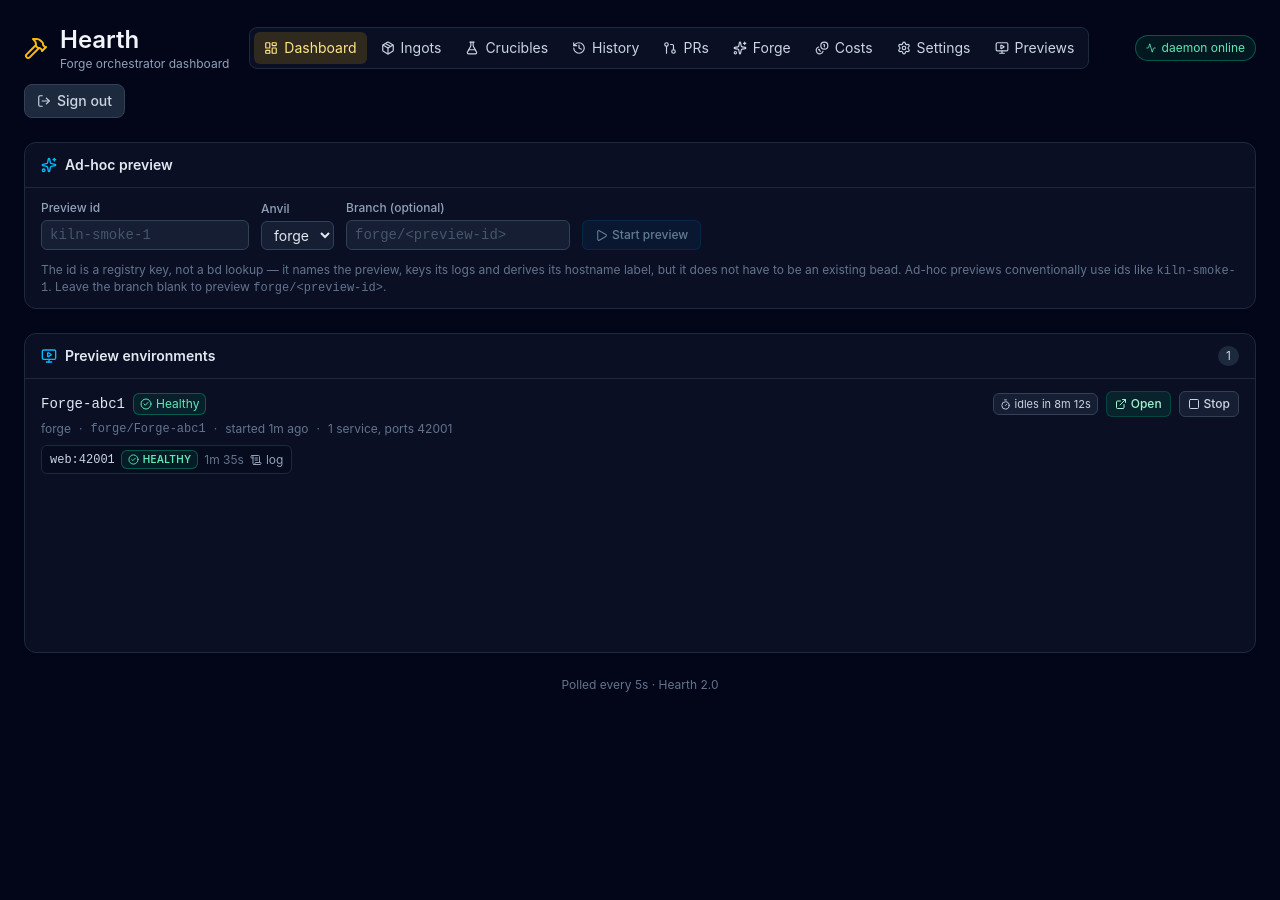
PreviewsPage ad-hoc preview form › reports the daemon refusal and keeps what was typed
The width and height of the screenshot is (1280, 900).
Type "kiln-smoke-3" into the field with test id "adhoc-preview-id" at {"x": 145, "y": 235}, box [41,220,249,250]
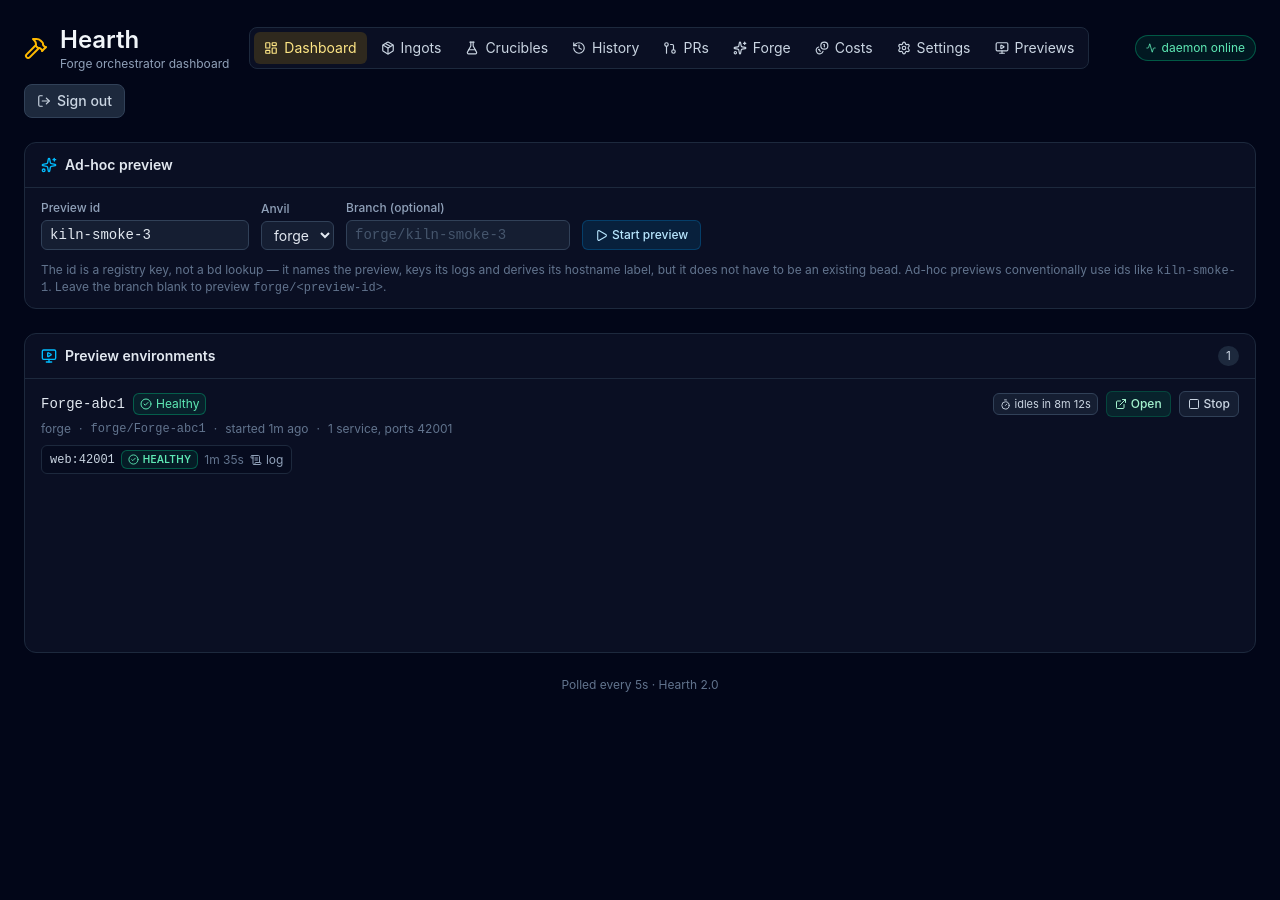
Type "main" into the field with test id "adhoc-preview-branch" at {"x": 458, "y": 235}, box [346,220,570,250]
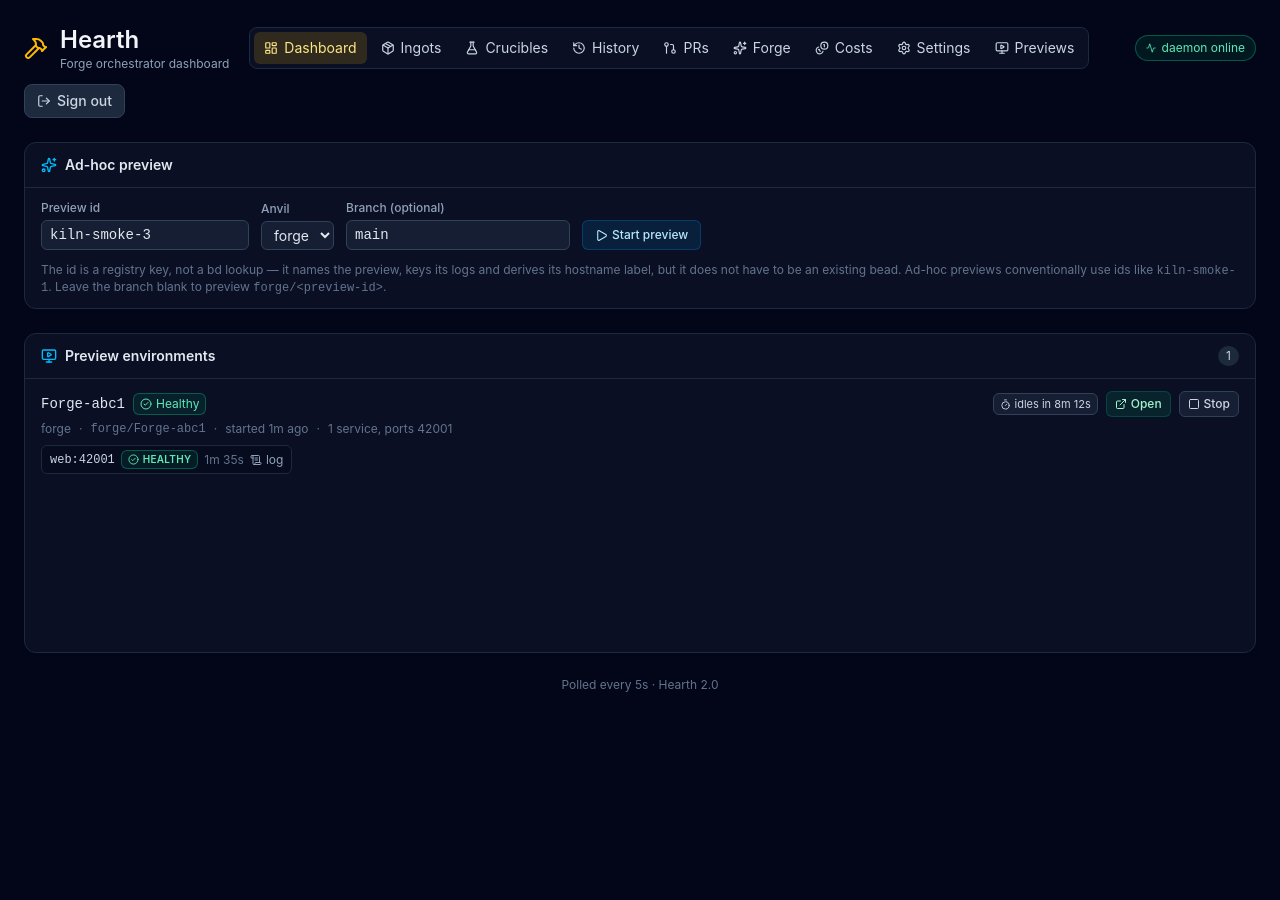
Click the button with test id "adhoc-preview-submit" at {"x": 642, "y": 235}, box [582,220,701,250]
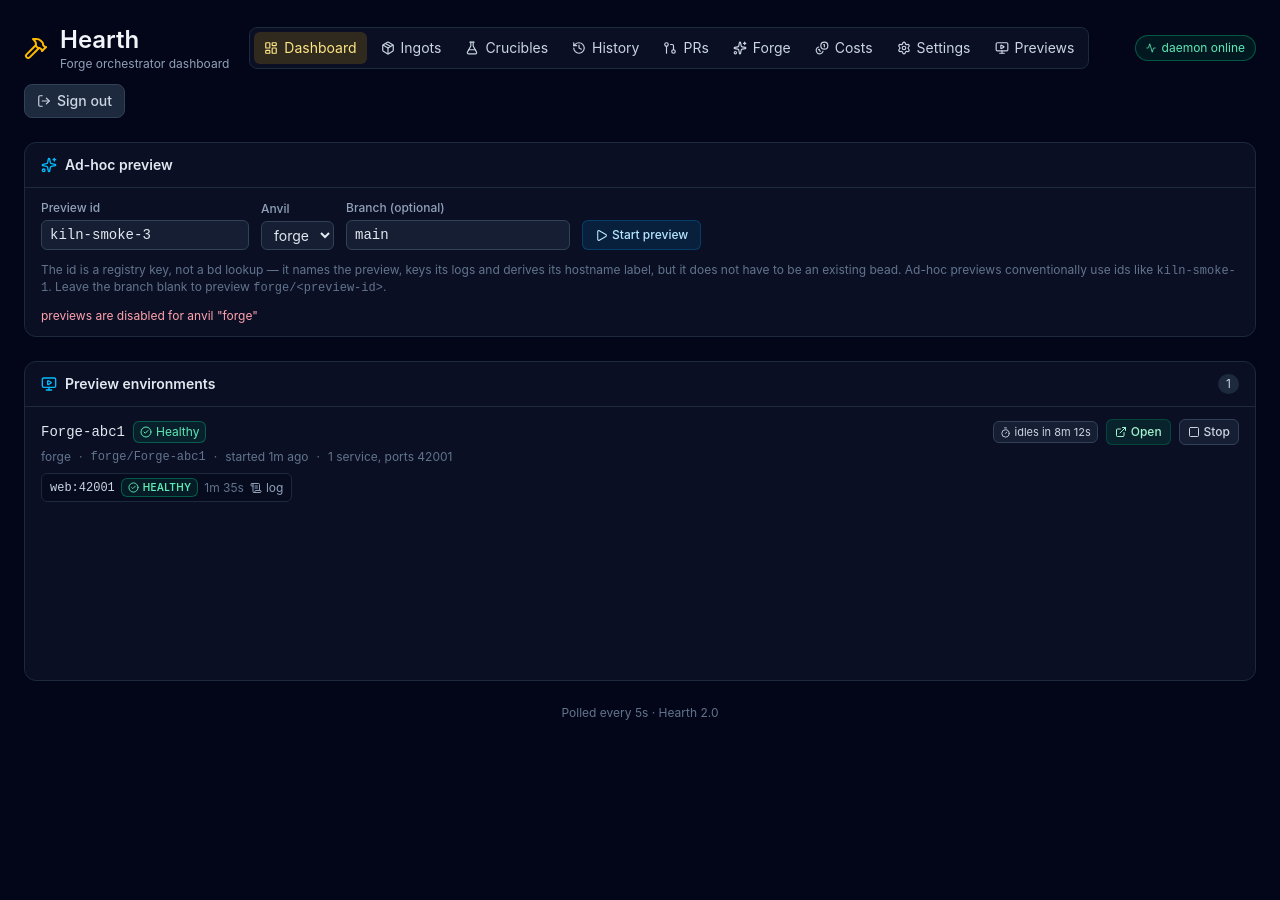
Expected: the message with test id "adhoc-preview-error" reads "previews are disabled for anvil \"forge\"", [41,308,258,323]
